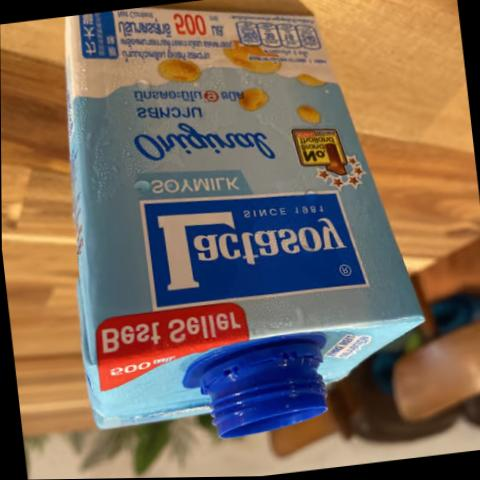cardboard: (40, 0, 434, 453)
